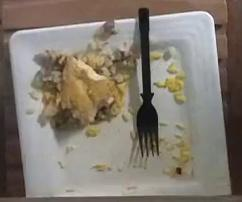fish: (31, 42, 124, 129)
